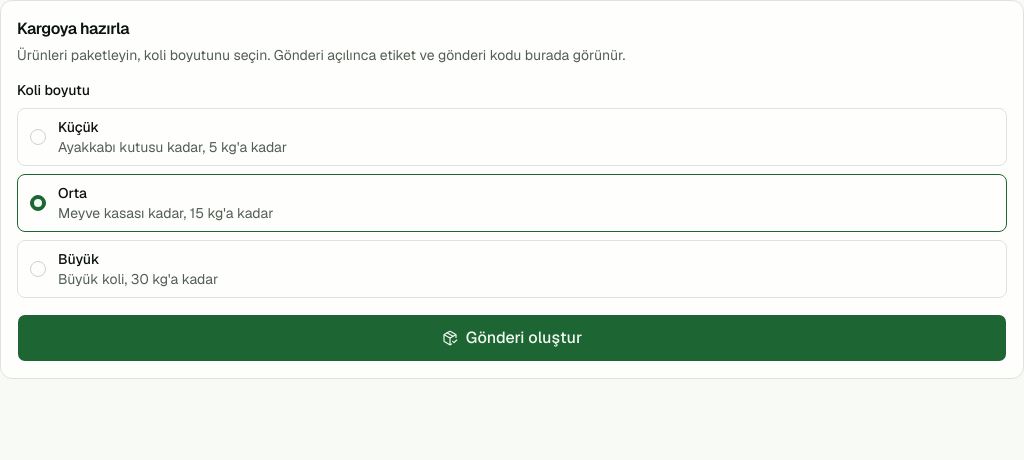
Scenario: PrepareShipment › sunucuya ulaşılamazsa genel hata gösterir ve düğme yeniden kullanılabilir olur
The width and height of the screenshot is (1024, 460).
Step 1. Click the button "Gönderi oluştur" → x=512, y=338, box x1=17 y1=314 x2=1007 y2=362
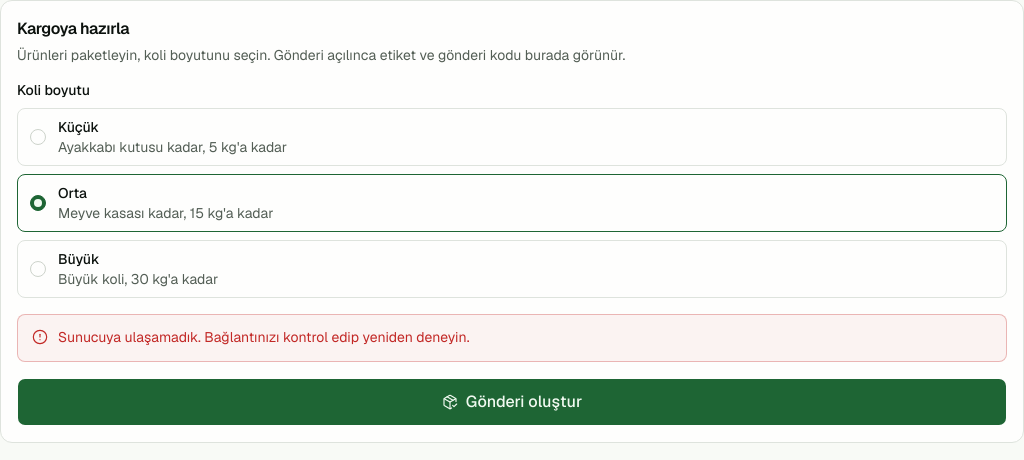
expect the button "Gönderi oluştur" is enabled: met, box x1=17 y1=378 x2=1007 y2=426
expect the message "Sunucuya ulaşamadık. Bağlantınızı kontrol edip yeniden deneyin." is shown: met, box x1=17 y1=314 x2=1007 y2=362
